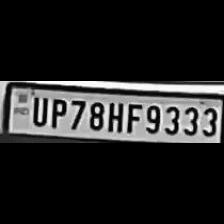3: (198, 102, 218, 138), (180, 102, 200, 136), (162, 101, 180, 135)
7: (66, 96, 86, 132)
8: (85, 98, 105, 132)
9: (142, 101, 160, 135)
F: (123, 100, 141, 134)
H: (105, 99, 124, 133)
P: (47, 95, 67, 129)
U: (28, 93, 48, 126)
